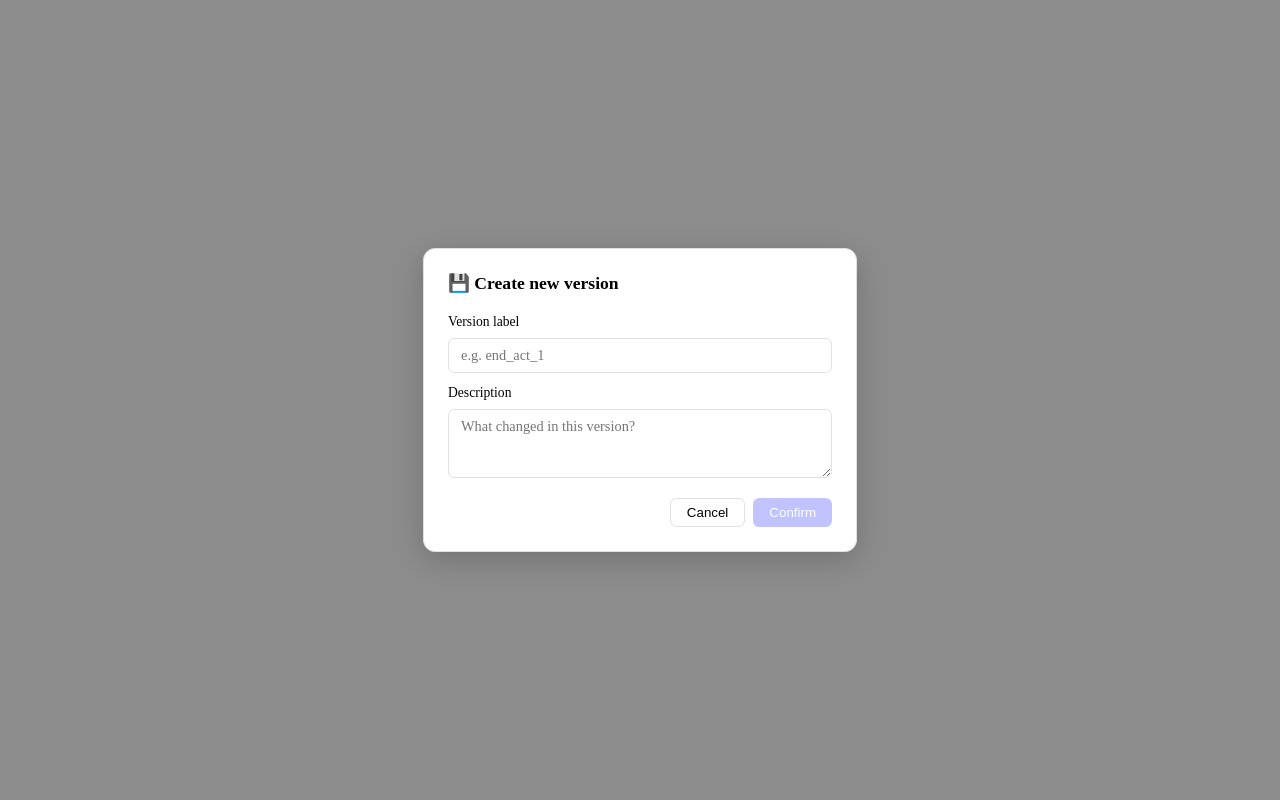
Scenario: HardenModal › Confirm button is enabled when label has a value
Type "end_act_1" into the field labelled "Version label".
click(640, 355); type("end_act_1")  # box [448,338,832,373]
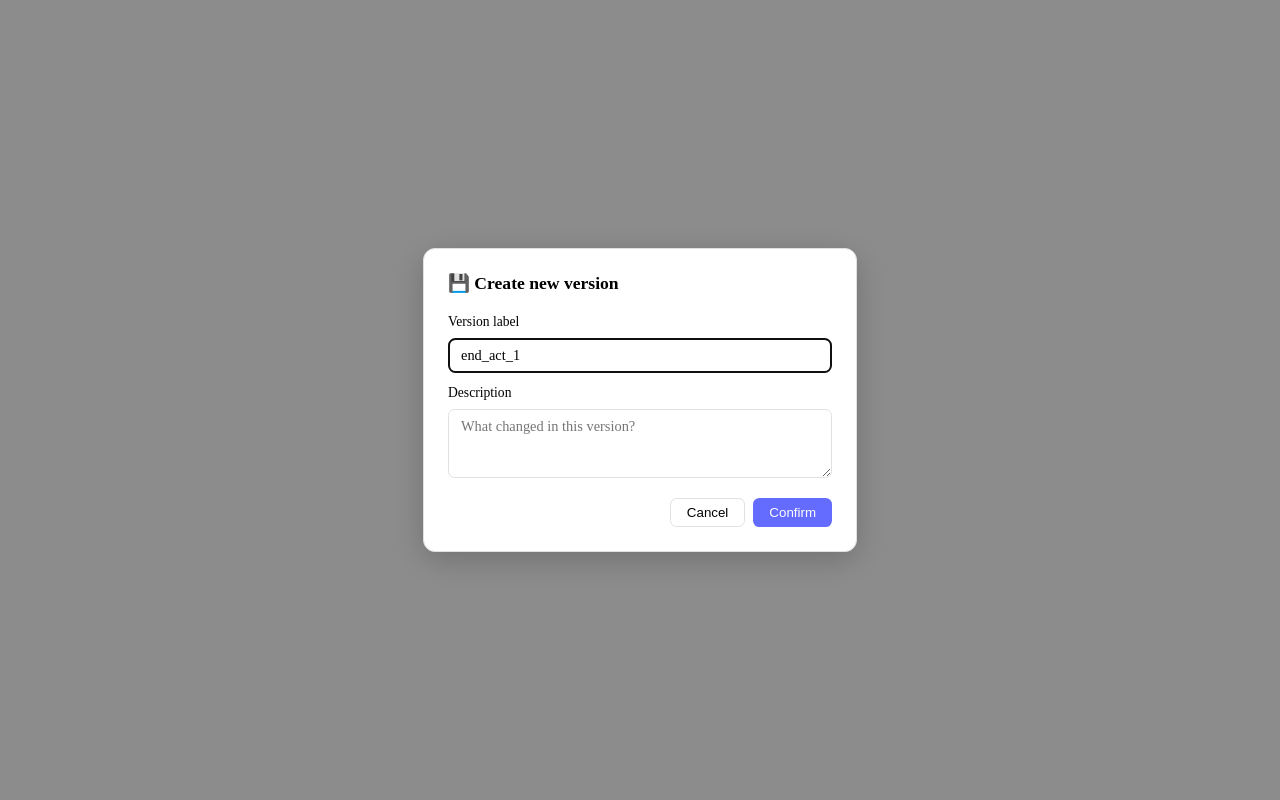
Expected: the button "Confirm" is enabled, [753,498,832,527]
